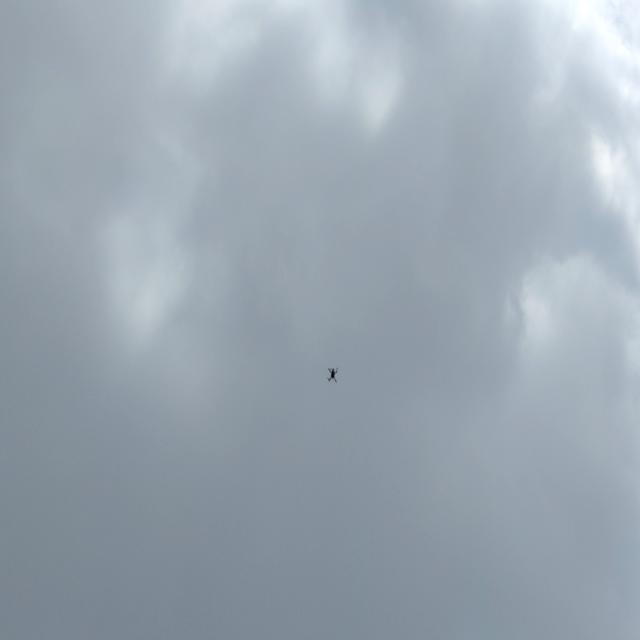drone: (323, 361, 345, 388)
